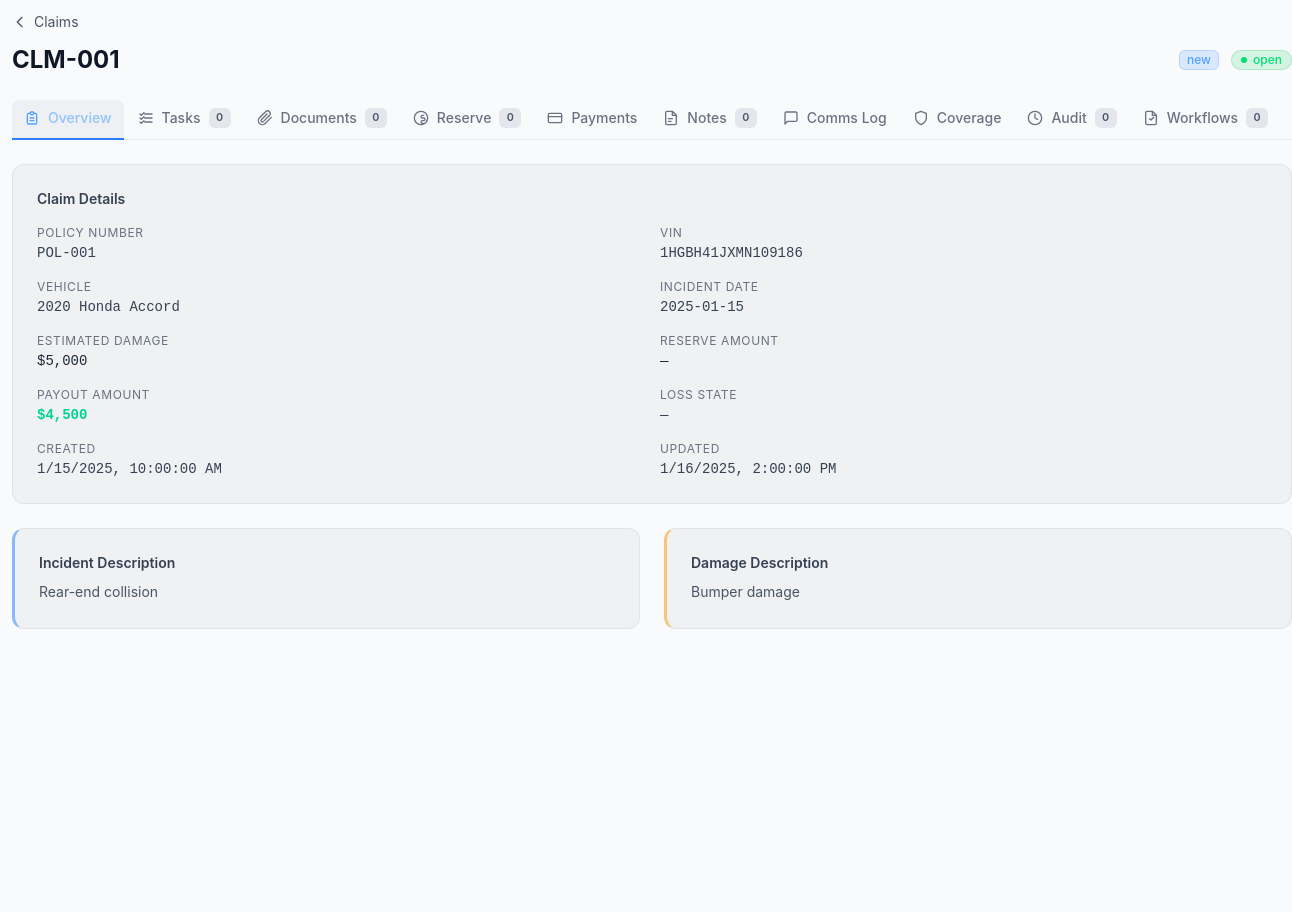
Scenario: ClaimDetail › switches to documents tab and shows upload area
Click the tab "Documents 0".
click(322, 120)  # box [244,100,399,140]
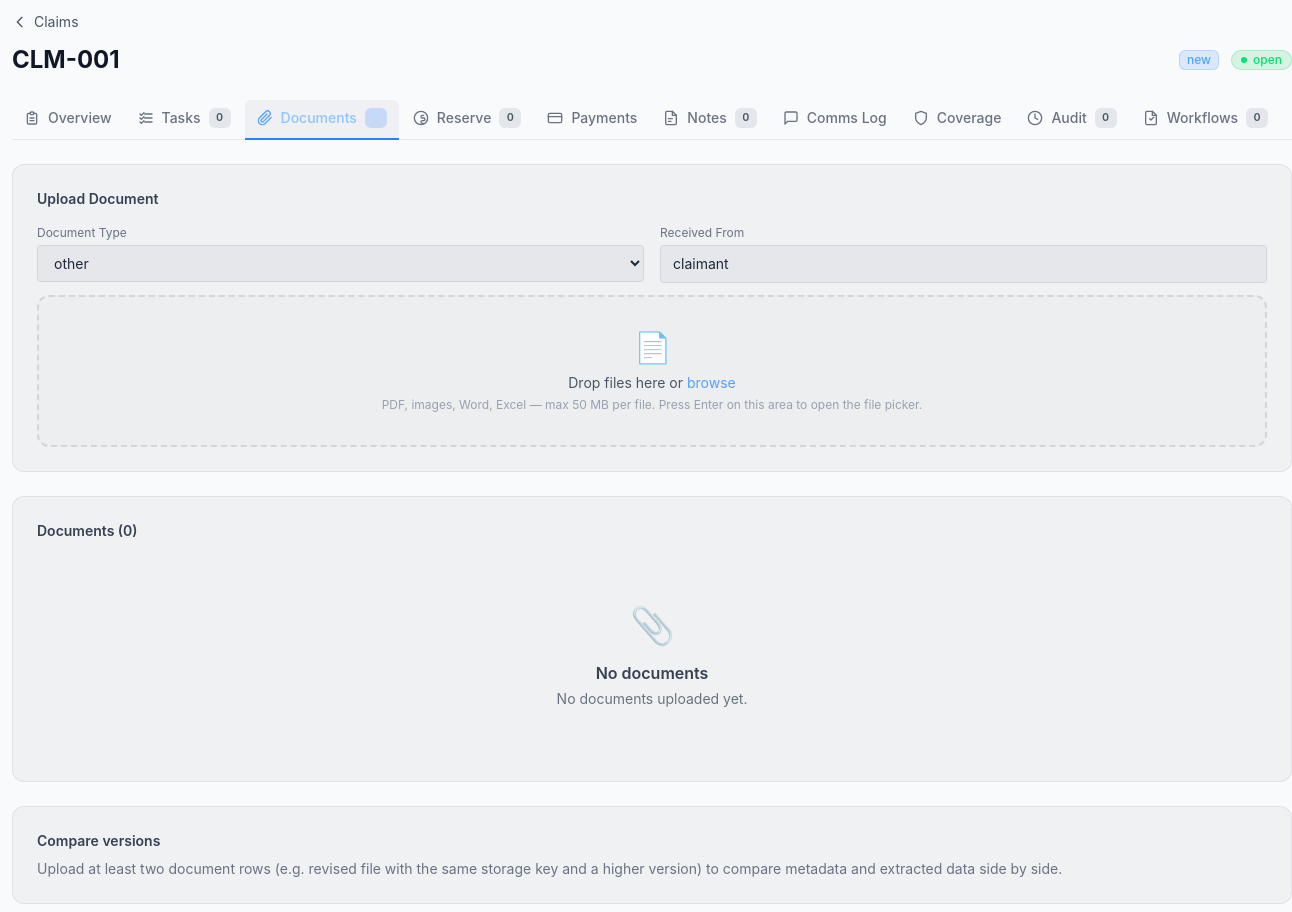
Result: the heading "Upload Document" is shown at [37,190,158,207]
Result: the heading "No documents" is shown at [596,661,708,685]
